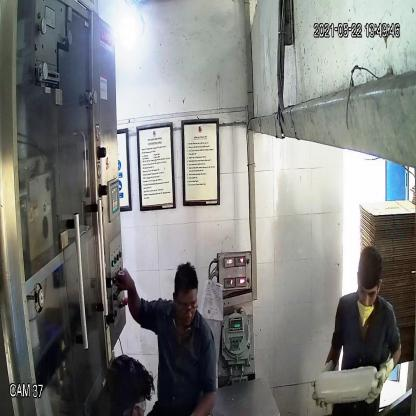goggles: (172, 298, 198, 316)
no_goggles: (356, 280, 378, 302)
